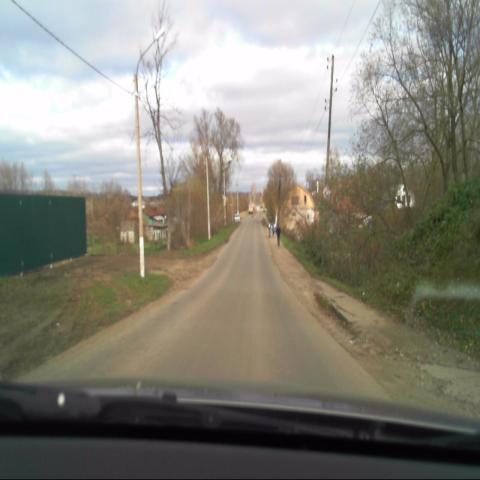3_24: (322, 184, 331, 200)
